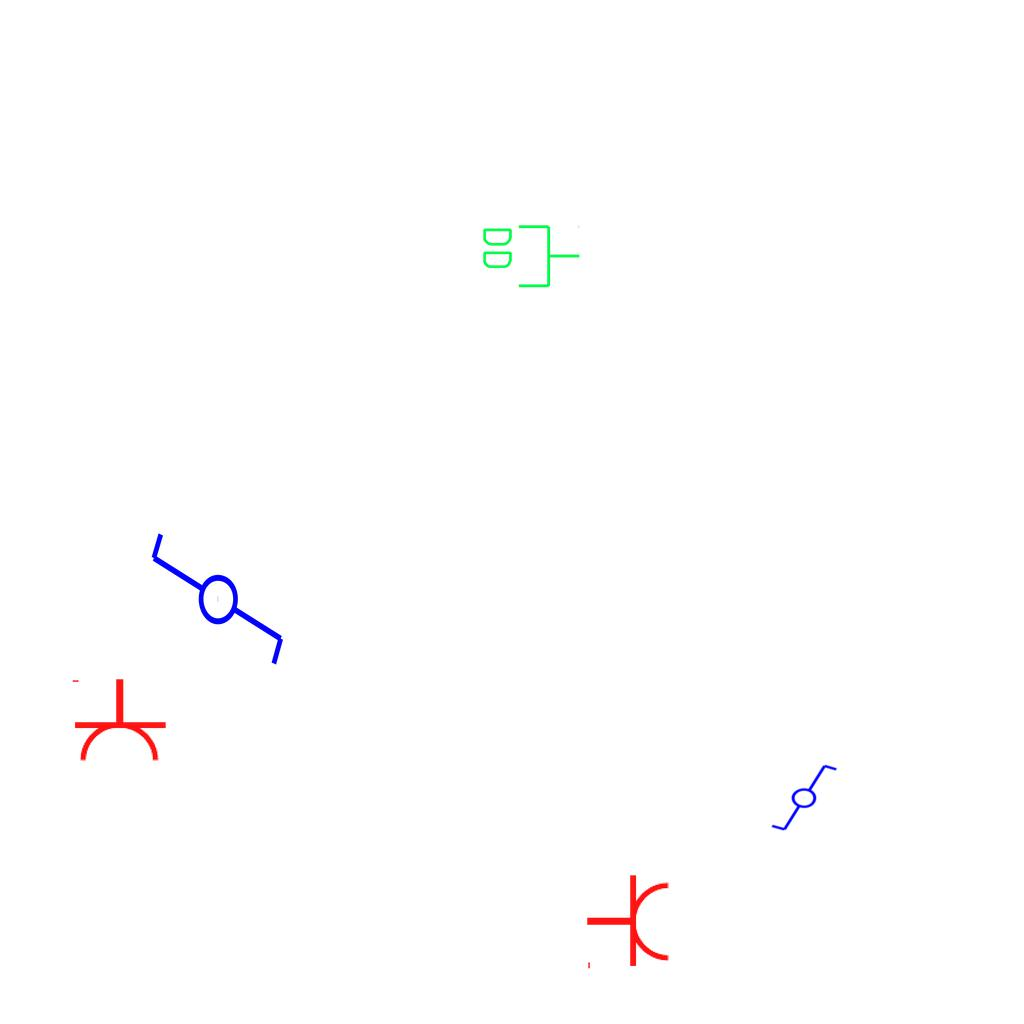Datenanschluss_zweifach: (479, 221, 582, 290)
Schukosteckdose_einfach: (68, 677, 168, 764), (585, 873, 672, 973)
Wechselschalter: (144, 529, 288, 686), (761, 761, 839, 833)
